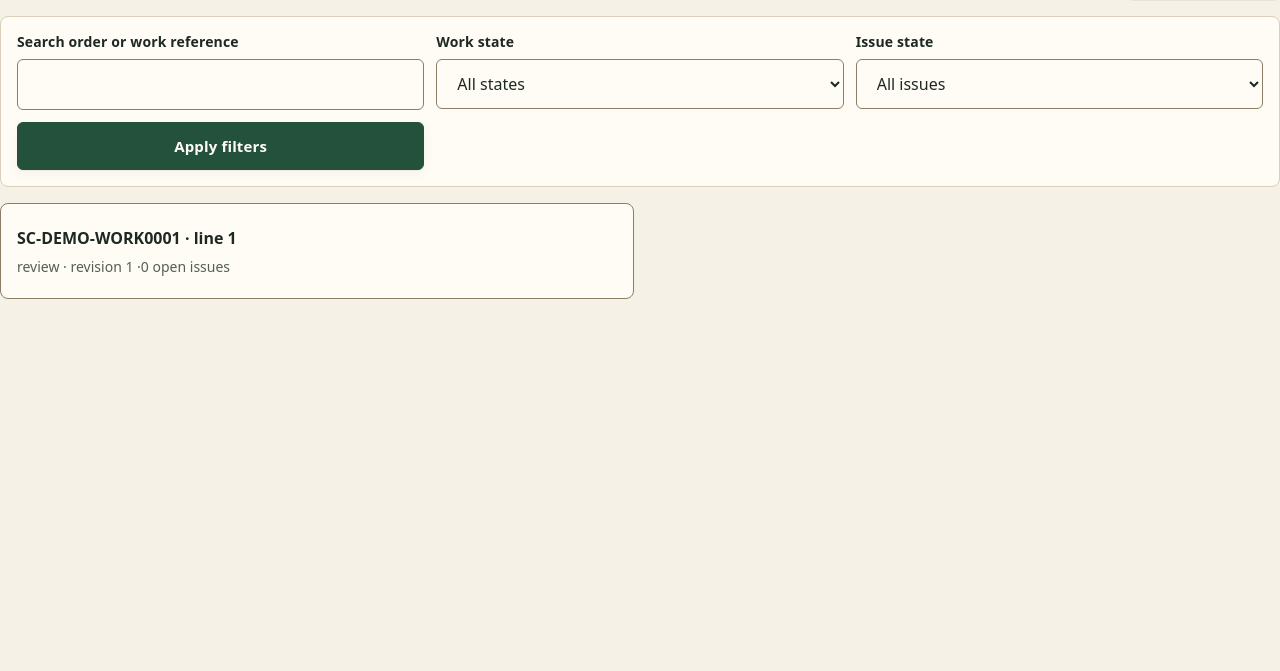
a failed operations action keeps its advice after the reload (D10)
The image size is (1280, 671).
Click the button "SC-DEMO-WORK0001 · line 1 review · revision 1 ·0 open issues" at (99, 238), box [0,203,634,299]
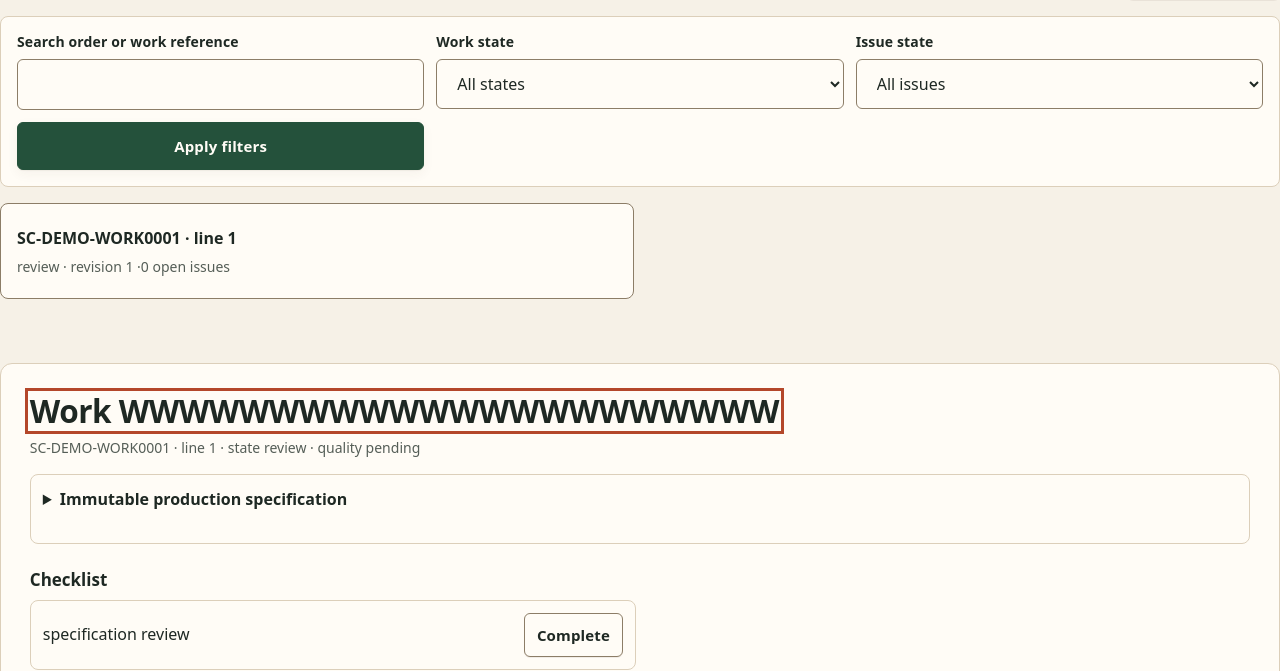
Click the button "Complete" at (573, 635), box [524,613,623,657]
(page scrolled)
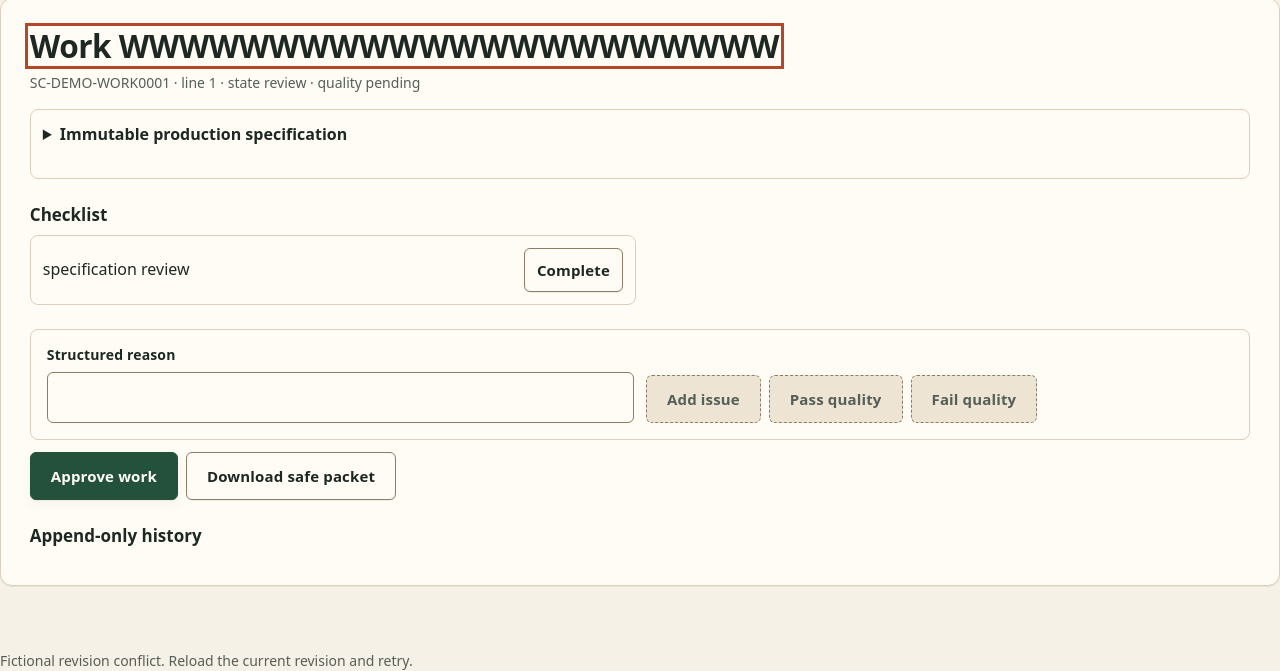
Expected: the text "Fictional revision conflict. Reload the current revision and retry." is shown, [0,651,413,670]
